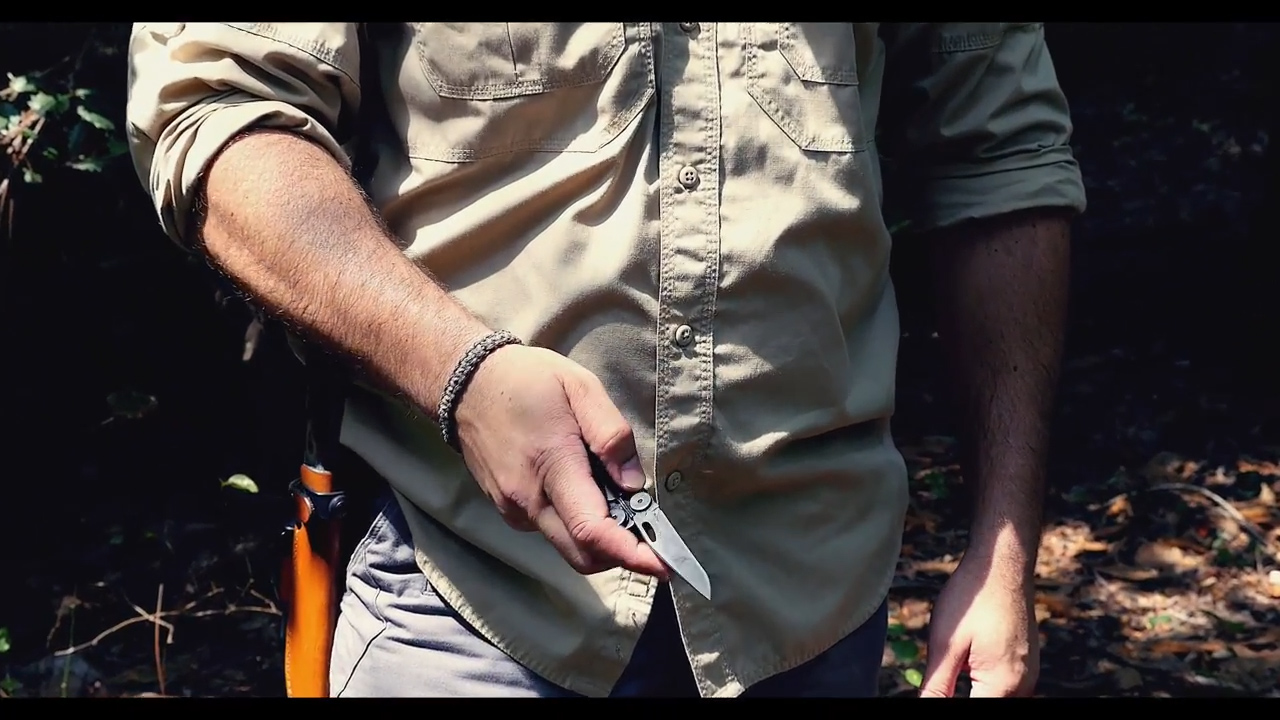knife: (509, 427, 733, 623)
